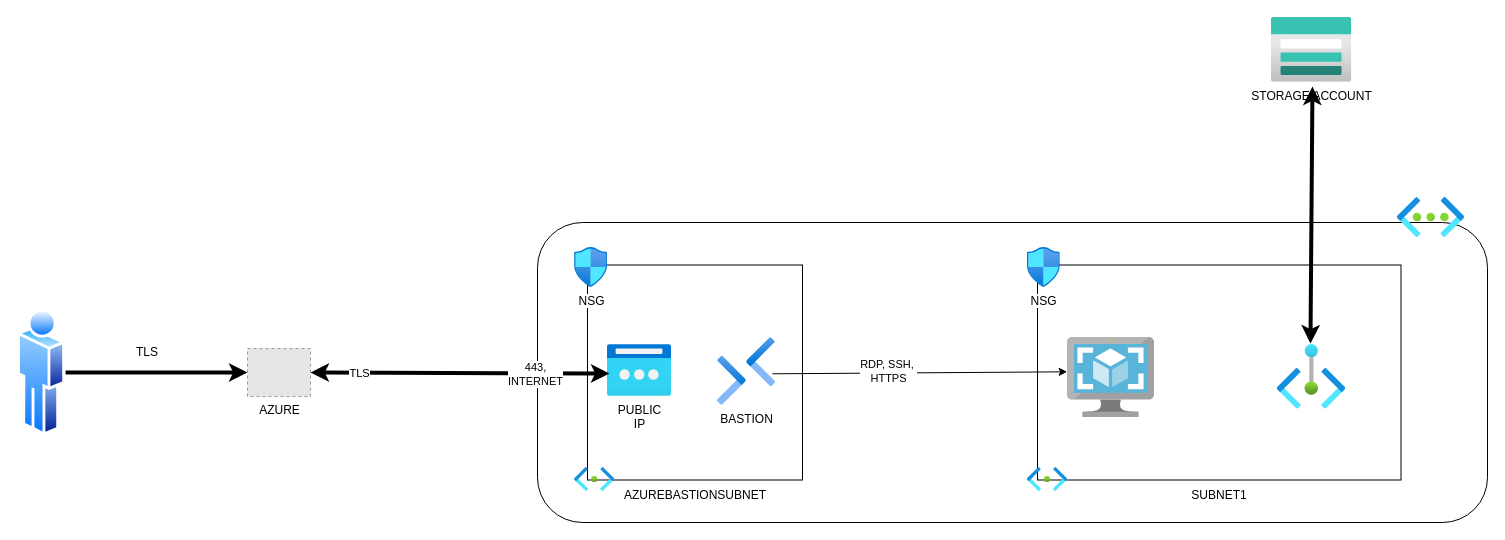
Some shapes in this 1505 by 540 pixel diagram are drawn without their labels. Grey dashed boxes stand in for pictures. Each missing label, with the centre of its shape:
"PRIVATE ENDPOINT" goes at point 1311,376.
"USER" goes at point 41,372.
"VM1" goes at point 1110,377.
